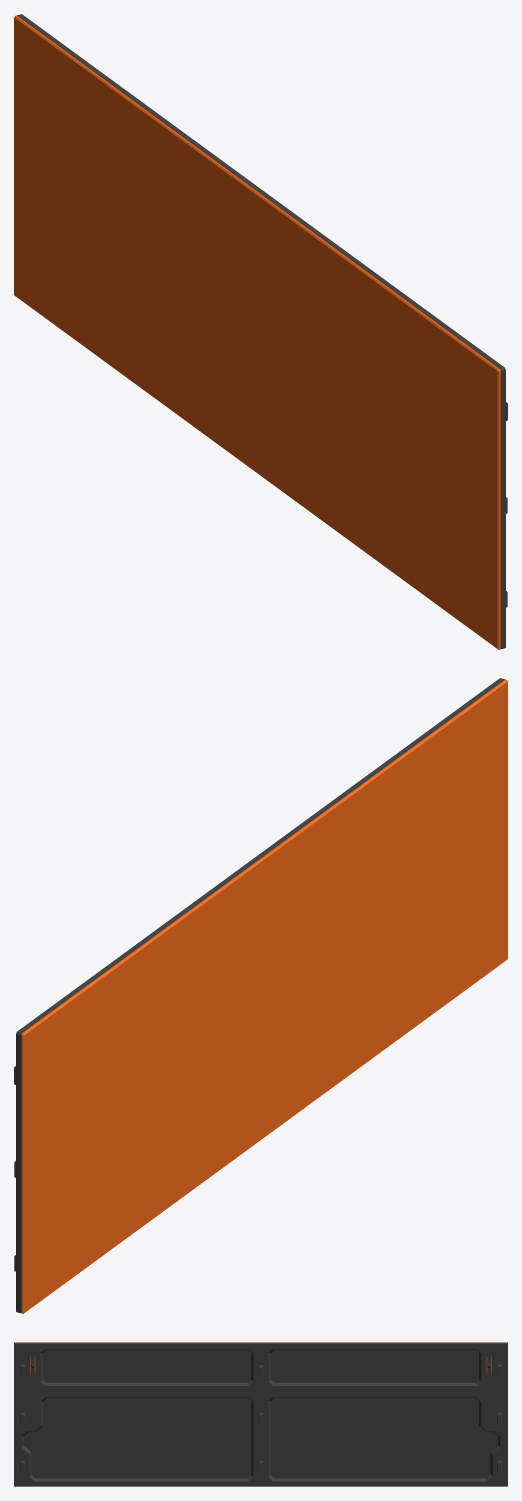
The model's file is SideCover_270-15H.lib.glb.
3 renders of one model, top to bottom at view 1: azimuth 30°, elevation 25°; view 2: azimuth 150°, elevation 25°; view 3: azimuth 270°, elevation 25°, orthographic. The views are drawn at different scales.
Parts seen in each view (by area): view 1: SideCover_270-15H; view 2: SideCover_270-15H; view 3: SideCover_270-15H.
Part boxes in pixels (x1=…): SideCover_270-15H: x1=14, y1=14, x2=507, y2=649; SideCover_270-15H: x1=14, y1=678, x2=507, y2=1313; SideCover_270-15H: x1=14, y1=1342, x2=507, y2=1486.
Size of the model in its own units: 5.05 by 83.61 by 262.
